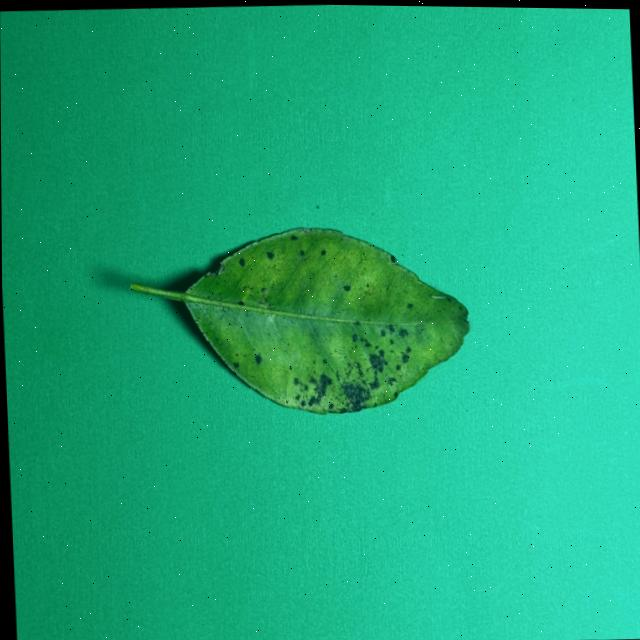sooty_mold: (132, 228, 468, 413)
